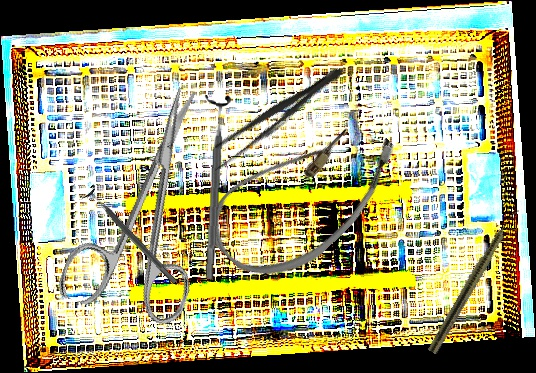Cannula: (194, 86, 414, 303)
Dressing Forceps: (201, 57, 350, 176)
Fixation Ring: (78, 183, 184, 290), (194, 94, 234, 281)
Handpiece: (426, 205, 522, 356)
Iris Scissors: (55, 70, 251, 336)
